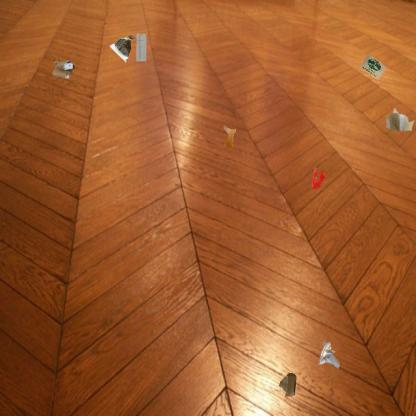dirty: (107, 32, 137, 62), (358, 52, 388, 80), (385, 106, 415, 133), (317, 340, 340, 370), (276, 370, 298, 398), (50, 58, 78, 80), (135, 32, 148, 62)
liquid: (223, 124, 238, 150), (311, 166, 326, 190)
